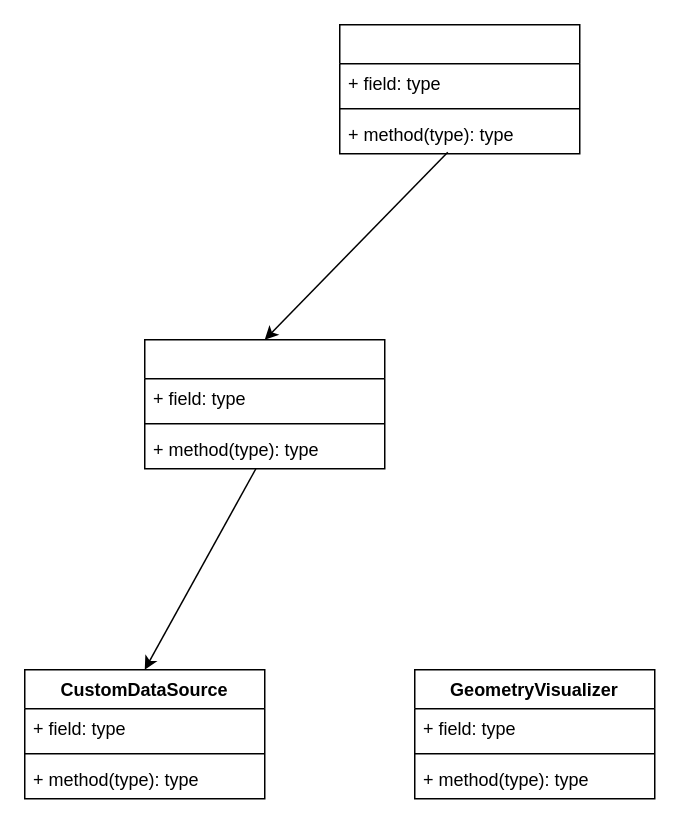
Some shapes in this 680 by 824 pixel diagram are drawn without their labels. The shapes that lost their labels are listed below. From the top down, each one's box as (x1, y1, x2, y2) in pixels, then its label:
(338, 23, 580, 154): Viewer
(143, 338, 385, 469): DataSourceDisplay
